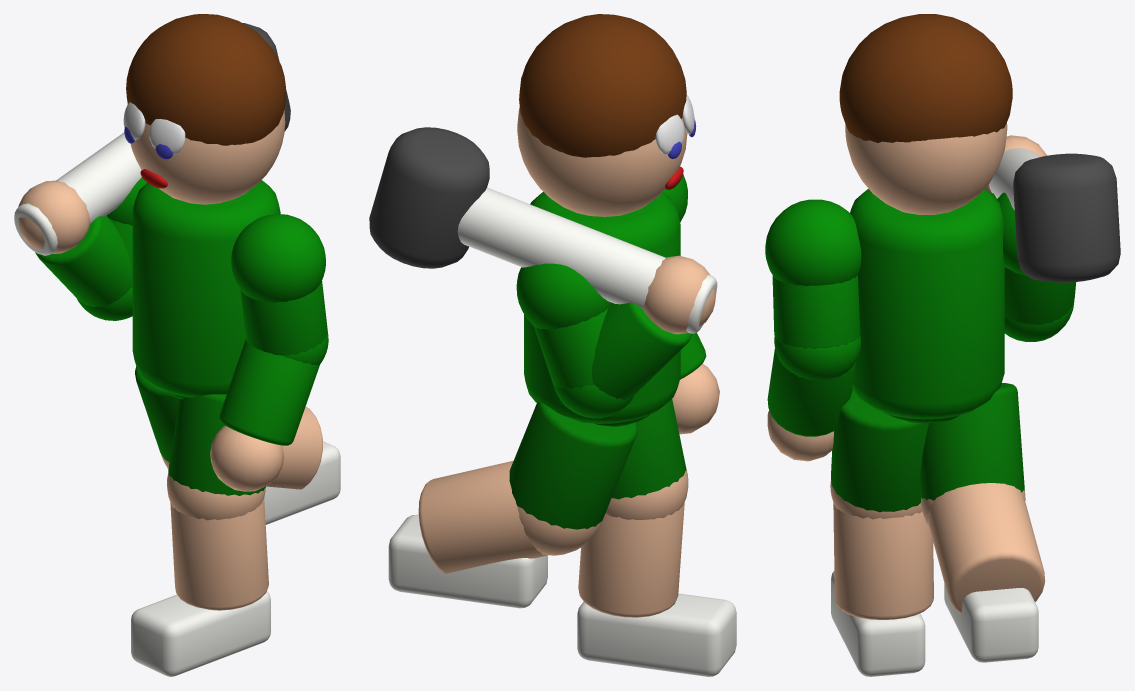
3 views of the same model, side by side, from view 1: azimuth 30°, elevation 25°; view 2: azimuth 150°, elevation 25°; view 3: azimuth 270°, elevation 25° (orthographic). The views are drawn at different scales.
Visible parts, largest first — view 1: torso, hair, shin_n, shoe_n, head, farm_n, shoulder_ball_n, farm_f, handle, uarm_n, thigh_n, hand_n (+10 smaller); view 2: hair, mallet, handle, thigh_f, shoe_n, shin_f, shin_n, head, torso, shoe_f, farm_f, shoulder_ball_f (+9 smaller); view 3: torso, hair, mallet, shin_f, shin_n, head, thigh_n, thigh_f, shoulder_ball_n, shoe_f, uarm_n, shoe_n (+8 smaller).
Boxes of the visible parts, x1=… form: torso: x1=132, y1=180, x2=280, y2=397; hair: x1=126, y1=14, x2=286, y2=145; shin_n: x1=170, y1=498, x2=268, y2=610; shoe_n: x1=131, y1=591, x2=270, y2=676; head: x1=130, y1=110, x2=285, y2=204; farm_n: x1=219, y1=339, x2=319, y2=445; shoulder_ball_n: x1=231, y1=214, x2=325, y2=302; farm_f: x1=35, y1=215, x2=132, y2=307; handle: x1=14, y1=132, x2=141, y2=255; uarm_n: x1=240, y1=281, x2=327, y2=355; thigh_n: x1=168, y1=394, x2=265, y2=495; hand_n: x1=210, y1=425, x2=284, y2=491; hair: x1=519, y1=14, x2=686, y2=157; mallet: x1=369, y1=127, x2=489, y2=268; handle: x1=457, y1=187, x2=717, y2=333; thigh_f: x1=509, y1=402, x2=637, y2=529; shoe_n: x1=577, y1=593, x2=736, y2=676; shin_f: x1=418, y1=460, x2=547, y2=573; shin_n: x1=578, y1=502, x2=684, y2=617; head: x1=517, y1=107, x2=687, y2=216; torso: x1=524, y1=191, x2=680, y2=423; shoe_f: x1=388, y1=514, x2=547, y2=608; farm_f: x1=591, y1=302, x2=692, y2=399; shoulder_ball_f: x1=516, y1=263, x2=611, y2=329; torso: x1=850, y1=189, x2=1004, y2=419; hair: x1=839, y1=14, x2=1012, y2=142; mallet: x1=1013, y1=153, x2=1120, y2=282; shin_f: x1=927, y1=483, x2=1045, y2=613; shin_n: x1=833, y1=503, x2=933, y2=619; head: x1=845, y1=123, x2=1007, y2=214; thigh_n: x1=831, y1=390, x2=928, y2=512; thigh_f: x1=920, y1=383, x2=1024, y2=500; shoulder_ball_n: x1=765, y1=199, x2=861, y2=285; shoe_f: x1=944, y1=583, x2=1038, y2=662; uarm_n: x1=772, y1=275, x2=860, y2=348; shoe_n: x1=831, y1=571, x2=925, y2=676.
Size of the model in its own units: 0.8454 by 1.62 by 0.8153.
